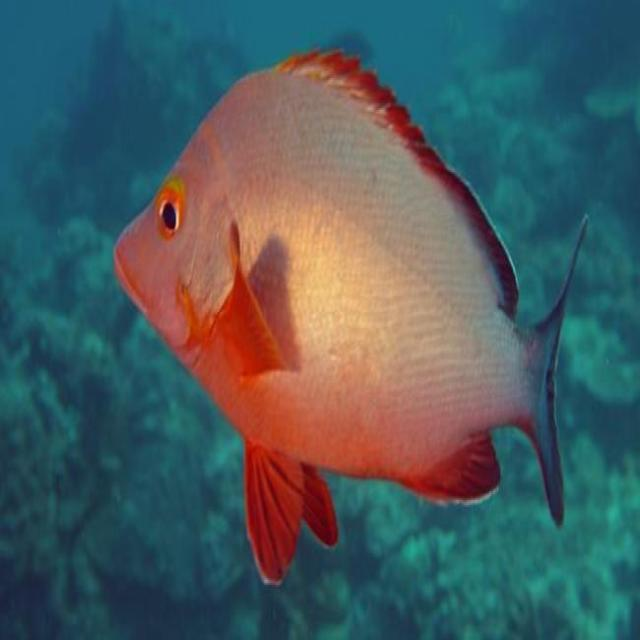ikan: (112, 42, 589, 587)
